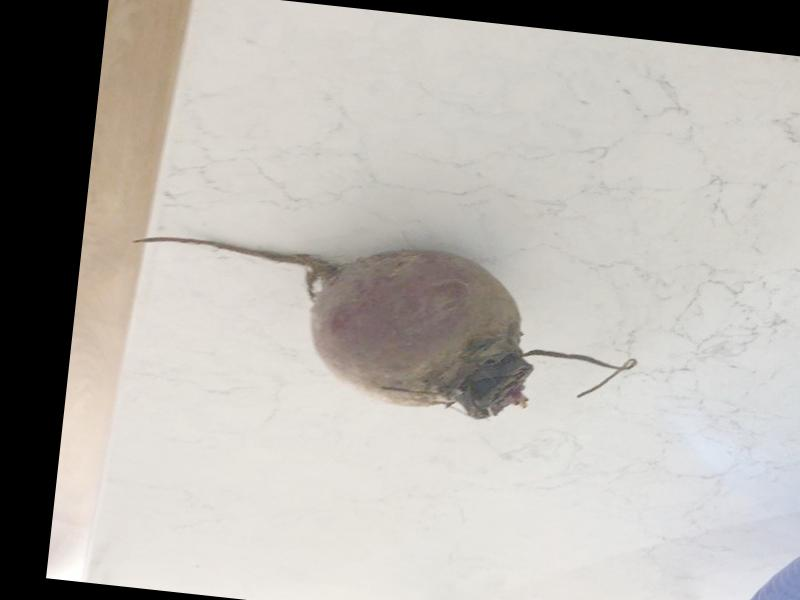Beet: (112, 218, 645, 432)
